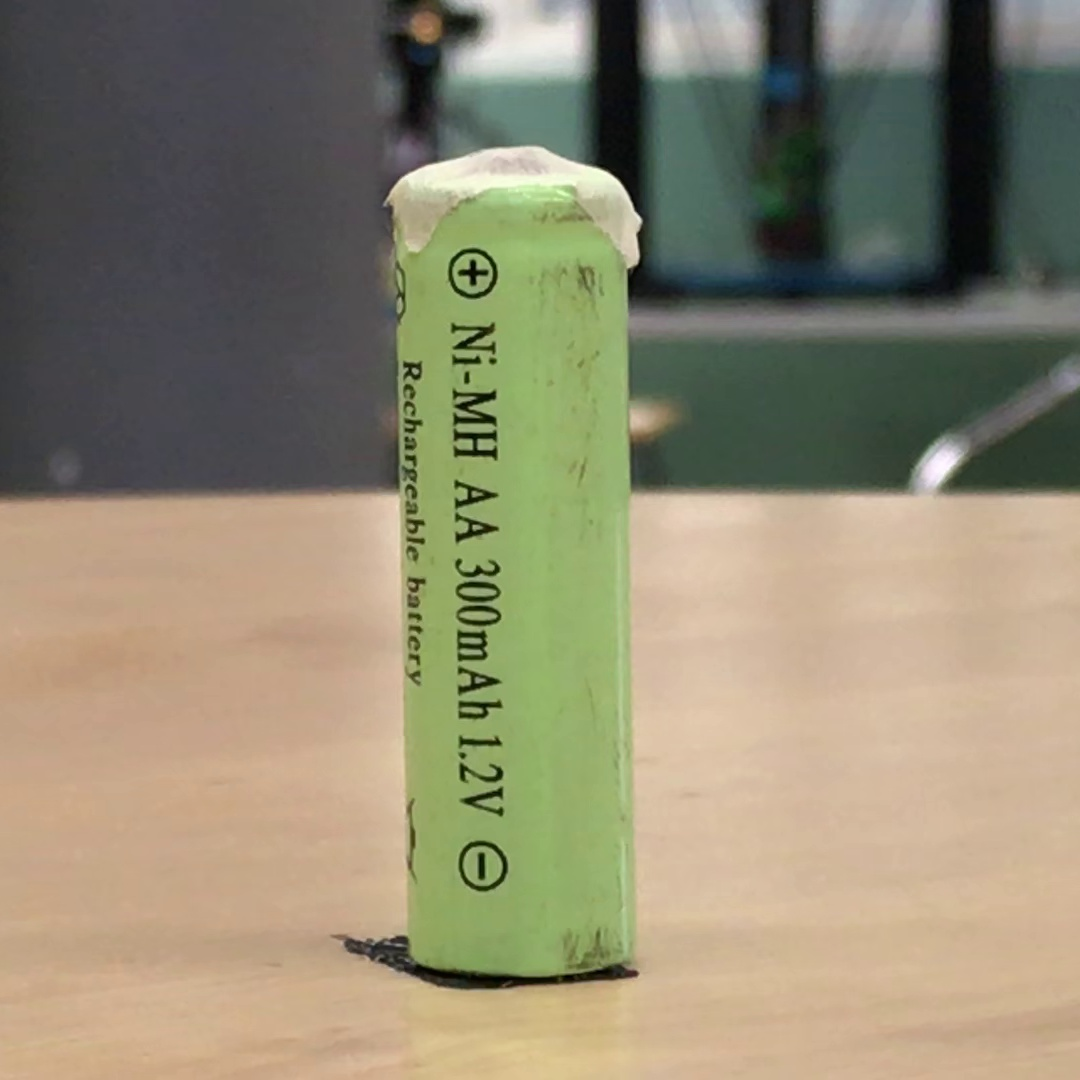keyword: (441, 313, 508, 465), (449, 726, 514, 827)
